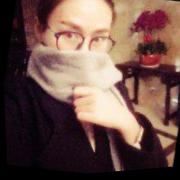WRONG: (38, 12, 116, 100)
